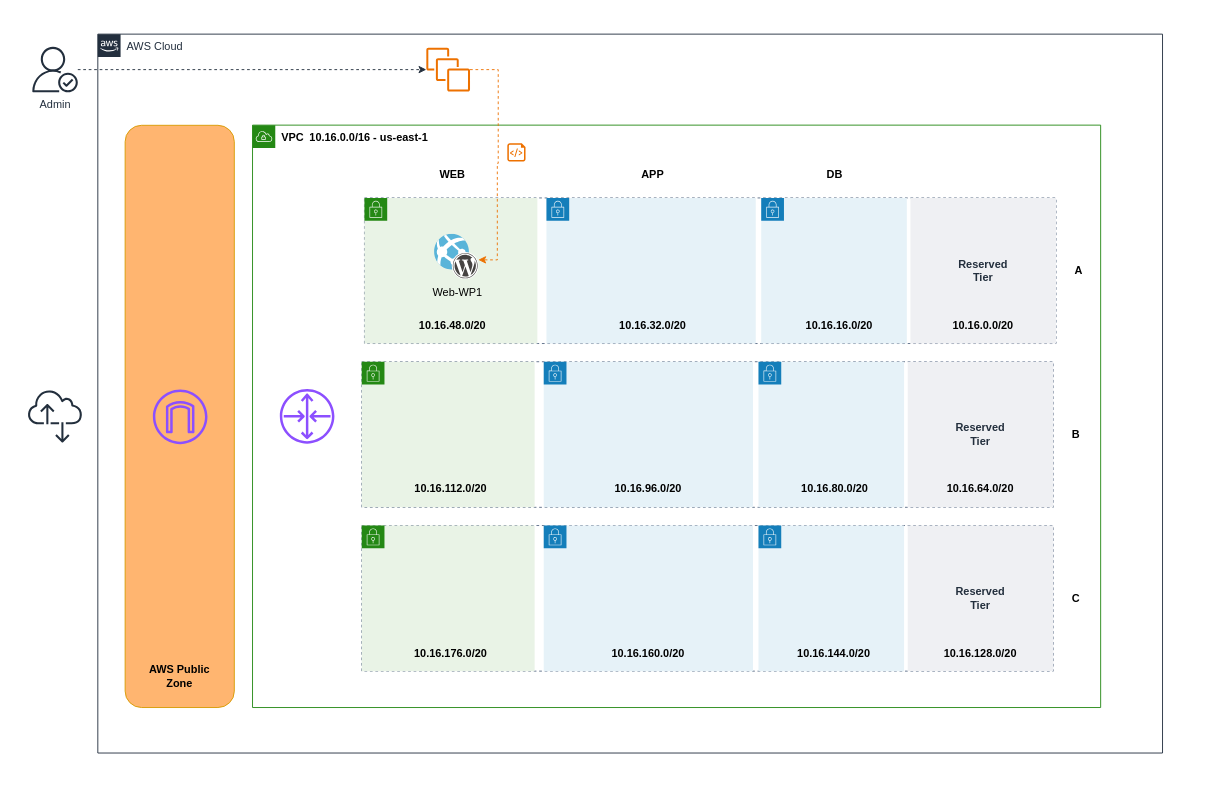
Some shapes in this 1214 by 786 pixel diagram are drawn without their labels. Here are the shapes that lost their labels. From the top down, the centre of each, then its label:
the point at 448,69: Launch Template
the point at 516,152: Bootstrap
the point at 54,416: Internet
the point at 179,416: Internet Gateway
the point at 306,416: VPC Router
